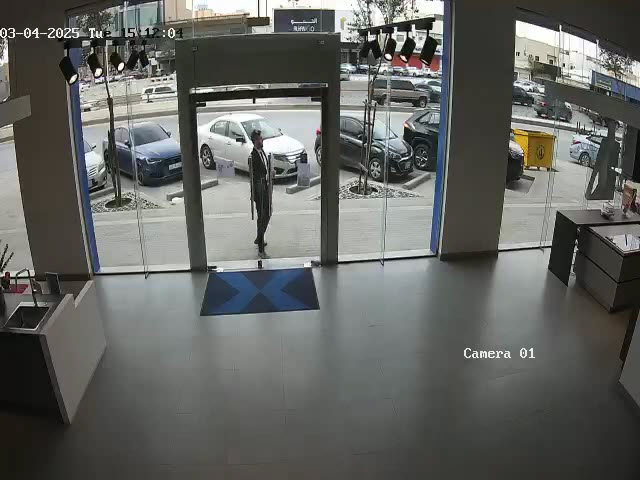employee: (248, 130, 276, 256)
